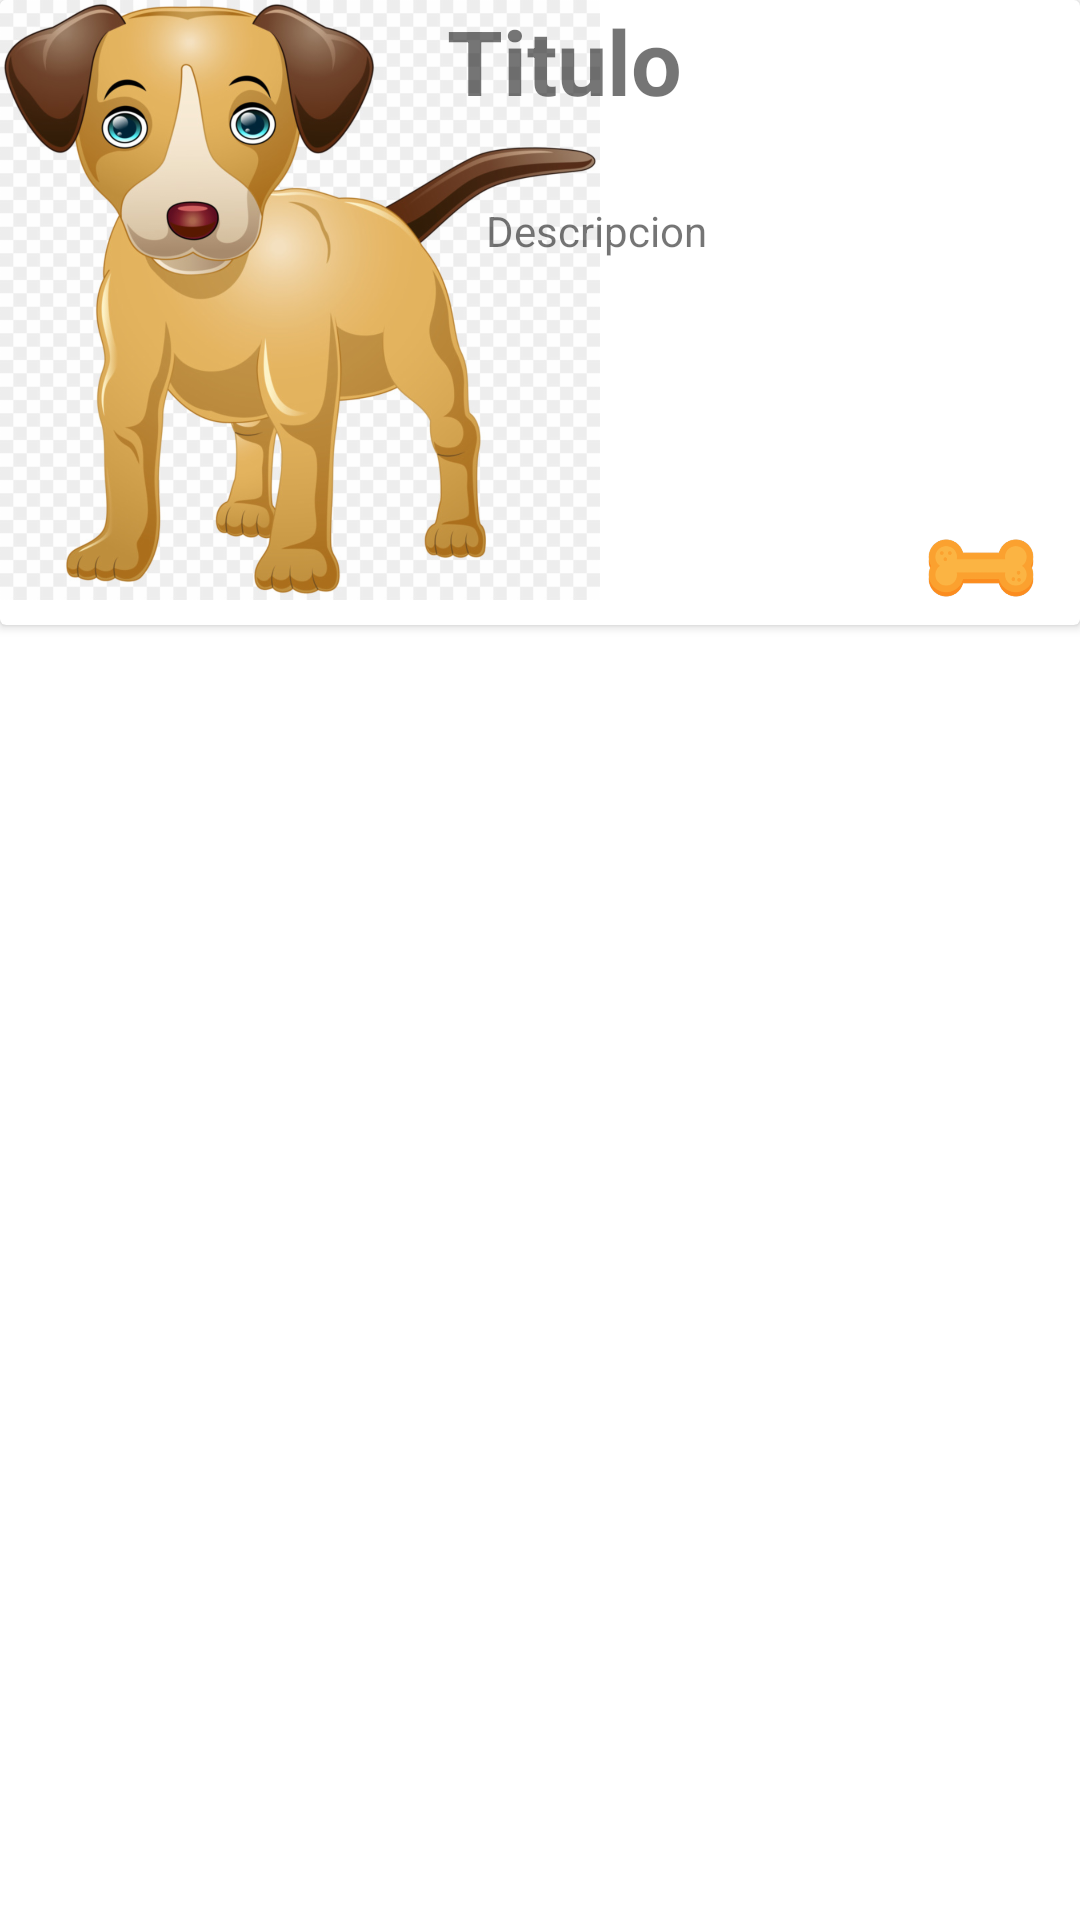

Locate icon controls on the screen. Image size 1080 × 1920, boxes as (x1=x1, y1=y1, x2=x2, y2=y2).
hueso: (x1=928, y1=539, x2=1034, y2=597)
